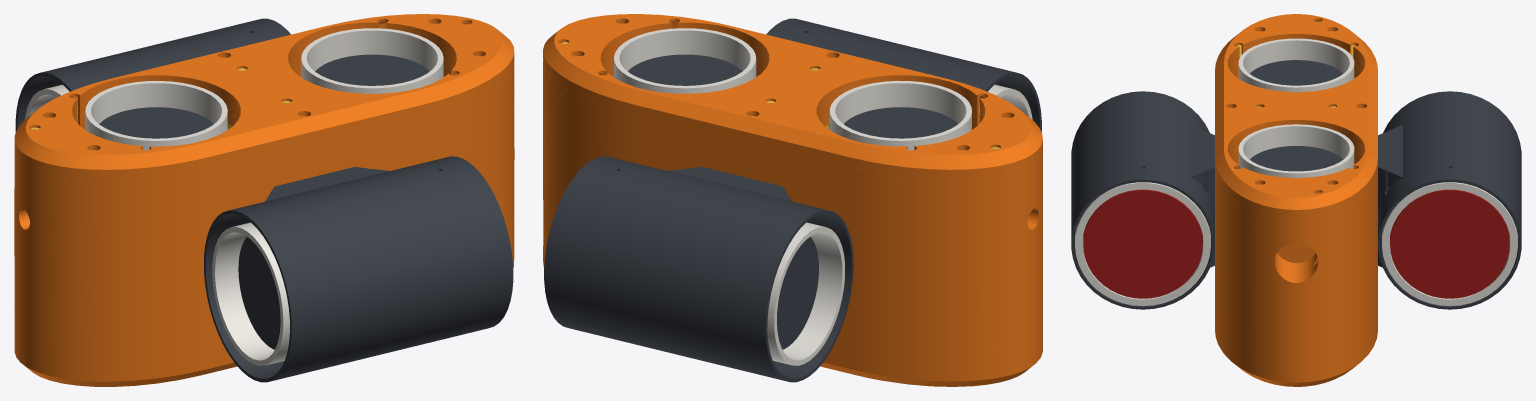
File: rov_v14.glb
3 renders of one model, left to right at view 1: azimuth 30°, elevation 25°; view 2: azimuth 150°, elevation 25°; view 3: azimuth 270°, elevation 25°, orthographic. The views are drawn at different scales.
Visible parts, largest first — view 1: hull_tub, nacelle_right, hull_cap, nacelle_left, pod_right/casing, pod_rear/casing, pod_front/casing, pod_right/prop, pod_rear/prop, pod_front/prop, pod_left/casing; view 2: hull_tub, nacelle_left, hull_cap, nacelle_right, pod_left/casing, pod_rear/casing, pod_front/casing, pod_left/prop, pod_front/prop, pod_rear/prop, pod_right/casing; view 3: hull_tub, hull_cap, nacelle_left, nacelle_right, pod_left/pump_motor, pod_right/pump_motor, pod_front/casing, pod_rear/casing, pod_left/casing, pod_right/casing, pod_rear/prop, pod_front/prop.
Boxes of the visible parts, left/top/right/bottom form: hull_tub: left=14, top=59, right=514, bottom=386; nacelle_right: left=204, top=156, right=513, bottom=382; hull_cap: left=14, top=14, right=514, bottom=179; nacelle_left: left=15, top=18, right=290, bottom=132; pod_right/casing: left=212, top=222, right=289, bottom=365; pod_rear/casing: left=85, top=81, right=227, bottom=150; pod_front/casing: left=301, top=28, right=443, bottom=93; pod_right/prop: left=238, top=237, right=280, bottom=349; pod_rear/prop: left=99, top=107, right=213, bottom=138; pod_front/prop: left=315, top=54, right=429, bottom=85; pod_left/casing: left=25, top=84, right=69, bottom=119; hull_tub: left=543, top=41, right=1042, bottom=386; nacelle_left: left=544, top=156, right=853, bottom=382; hull_cap: left=543, top=14, right=1042, bottom=179; nacelle_right: left=766, top=18, right=1041, bottom=132; pod_left/casing: left=767, top=222, right=844, bottom=365; pod_rear/casing: left=829, top=80, right=971, bottom=150; pod_front/casing: left=614, top=28, right=756, bottom=93; pod_left/prop: left=777, top=236, right=818, bottom=349; pod_front/prop: left=628, top=54, right=742, bottom=85; pod_rear/prop: left=844, top=107, right=957, bottom=138; pod_right/casing: left=988, top=84, right=1032, bottom=119; hull_tub: left=1215, top=44, right=1377, bottom=386; hull_cap: left=1215, top=14, right=1377, bottom=218; nacelle_left: left=1378, top=91, right=1521, bottom=309; nacelle_right: left=1071, top=91, right=1214, bottom=309; pod_left/pump_motor: left=1390, top=189, right=1509, bottom=298; pod_right/pump_motor: left=1083, top=189, right=1202, bottom=298; pod_front/casing: left=1238, top=124, right=1354, bottom=177; pod_rear/casing: left=1238, top=38, right=1354, bottom=91; pod_left/casing: left=1382, top=182, right=1517, bottom=306; pod_right/casing: left=1075, top=182, right=1210, bottom=306; pod_rear/prop: left=1250, top=60, right=1342, bottom=85; pod_front/prop: left=1250, top=146, right=1342, bottom=171.
Size of the model in its own units: 0.25 by 0.115 by 0.2482.
